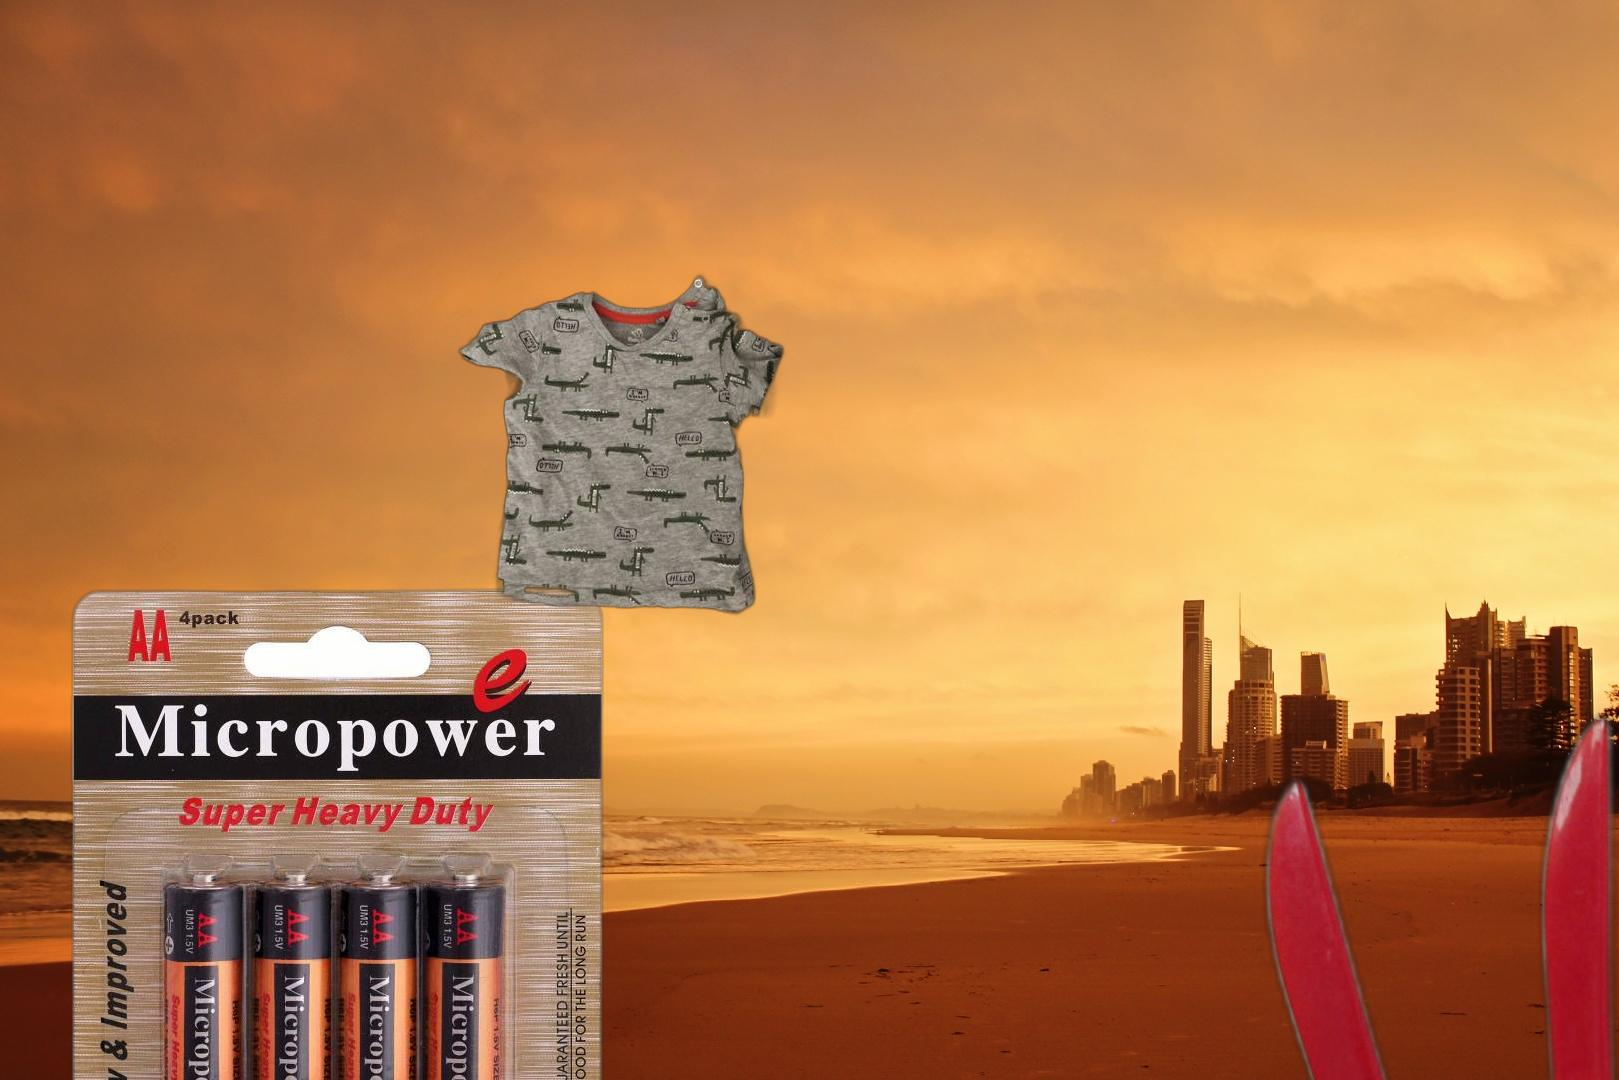battery: (64, 583, 610, 1080)
clothes: (456, 268, 787, 618)
penholder: (1246, 703, 1619, 1080)
